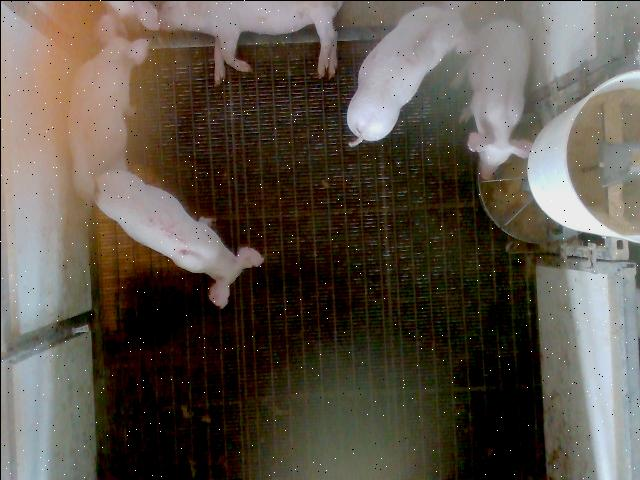pig-3: (346, 2, 476, 145)
pig-4: (68, 11, 148, 201)
pig-5: (94, 168, 262, 306)
